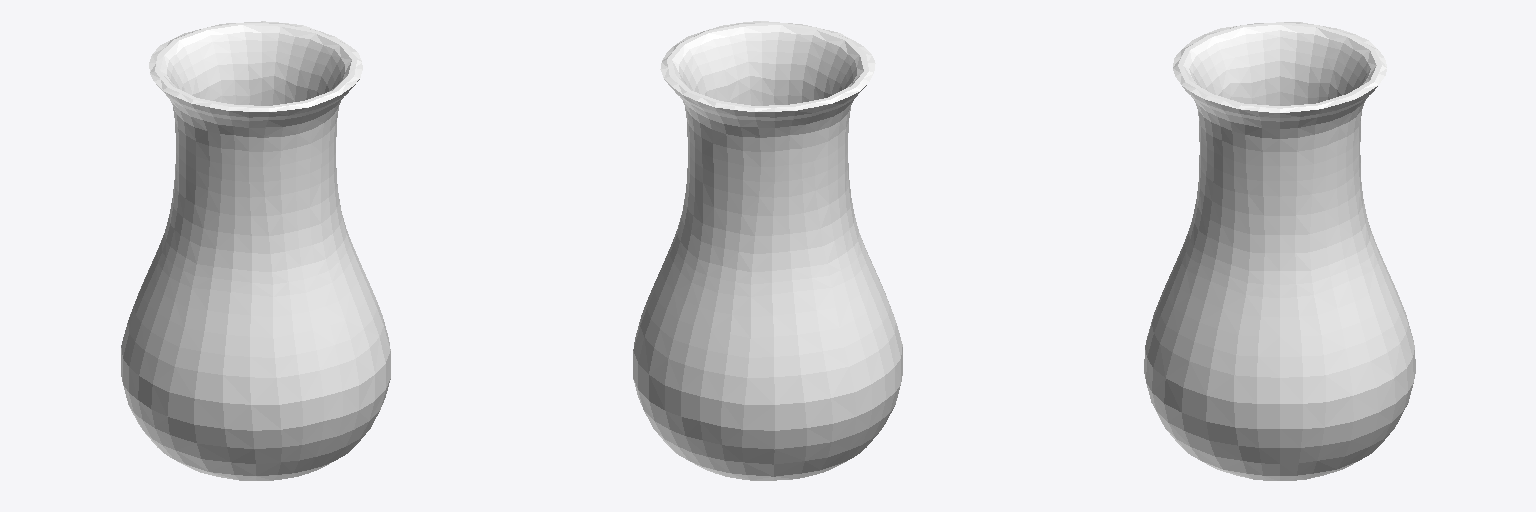
Rendered from vase_LP_UV.obj.
3 views of the same model, side by side, from view 1: azimuth 30°, elevation 25°; view 2: azimuth 150°, elevation 25°; view 3: azimuth 270°, elevation 25° (orthographic).
Visible parts, largest first — view 1: RetopoGroup1; view 2: RetopoGroup1; view 3: RetopoGroup1.
Part boxes in pixels (x1,y1,x2,y2): RetopoGroup1: (121,21,390,480); RetopoGroup1: (633,21,902,480); RetopoGroup1: (1144,22,1415,480).
Size of the model in its own units: 34.11 by 52.73 by 34.1.